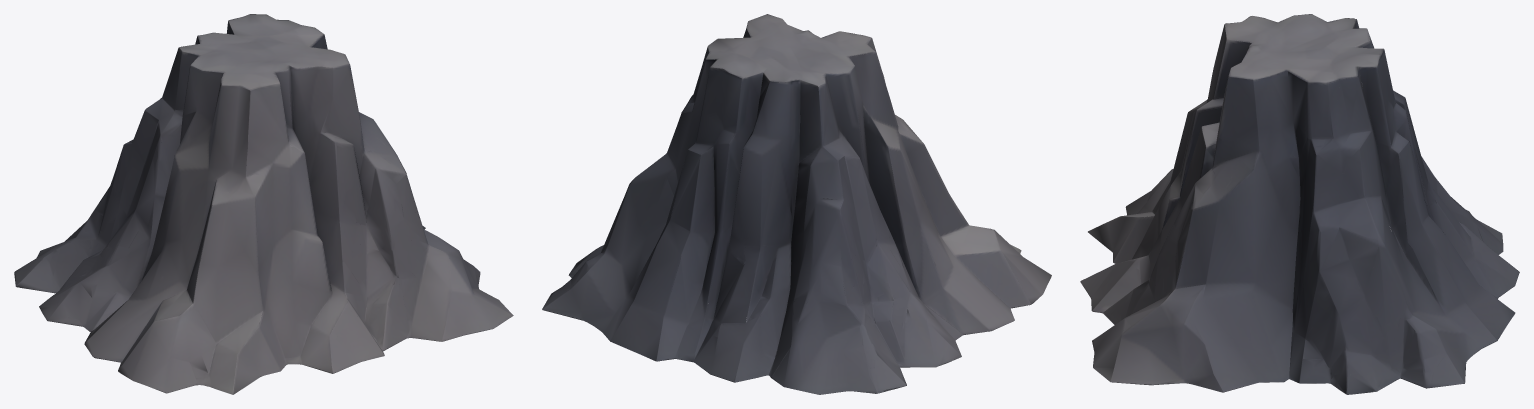
Rendered from stone_mountain.glb.
3 renders of one model, left to right at view 1: azimuth 30°, elevation 25°; view 2: azimuth 150°, elevation 25°; view 3: azimuth 270°, elevation 25°, orthographic. The views are drawn at different scales.
Visible parts, largest first — view 1: node_0; view 2: node_0; view 3: node_0.
Part boxes in pixels (box(x1,y1,x2,y2)): node_0: box(14, 14, 513, 394); node_0: box(542, 14, 1051, 394); node_0: box(1080, 14, 1519, 394).
Bounding box in the file's own units: 0.8988 × 0.5463 × 0.846.
1 material, 1 textured.
